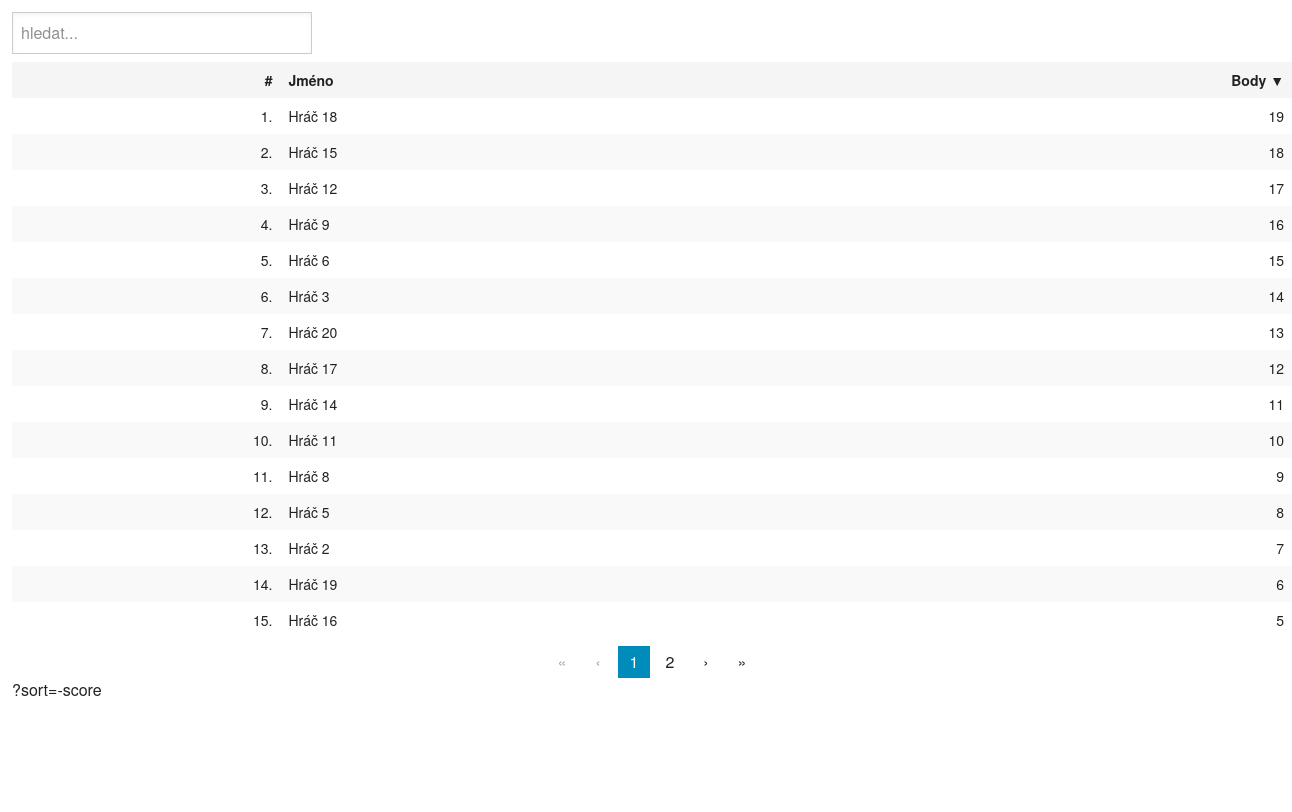
Test case: rank column numbers searched+sorted rows
Expected: the cell "1." is shown, [12,98,280,134]
What coordinates should you click on to do the following:
click the button "2"
I would click on:
 (670, 662)
Its box is [654,646,686,678].
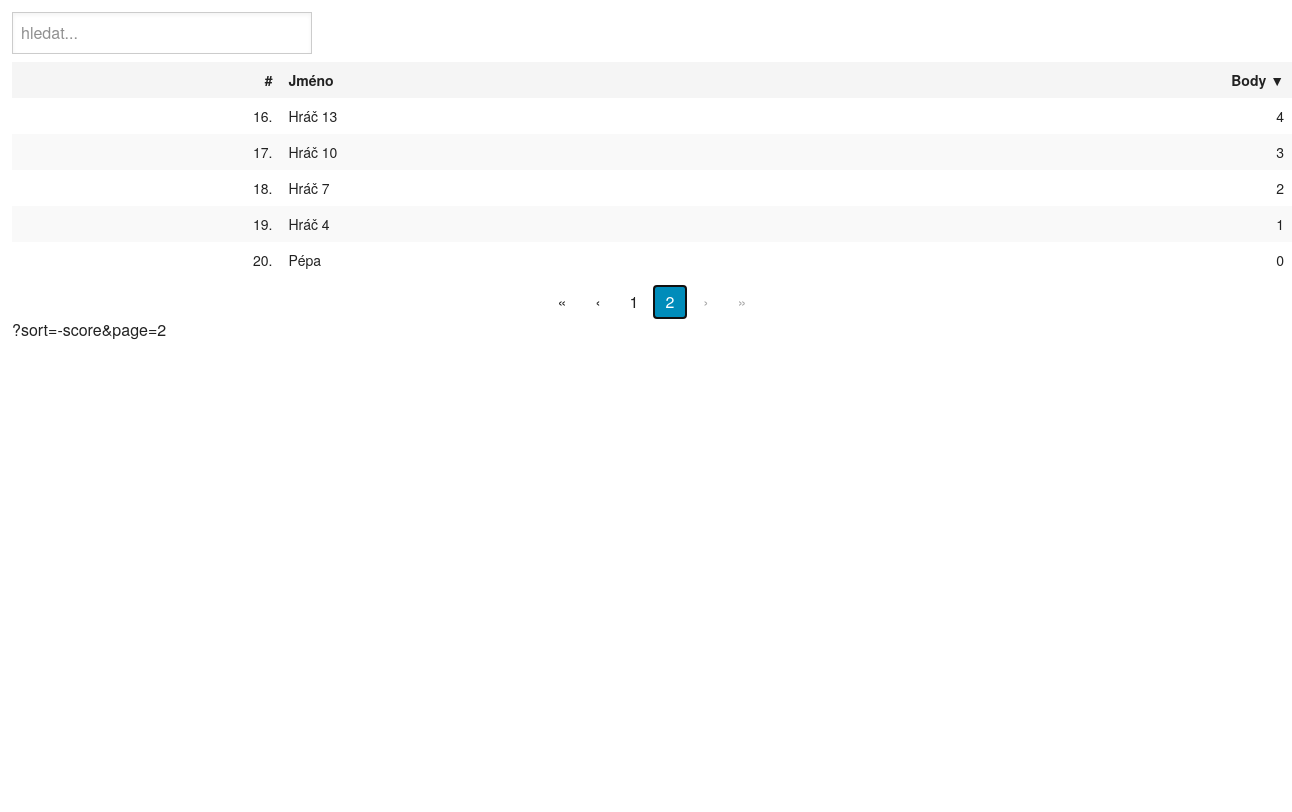
Expected: the cell "16." is shown, [12,98,280,134]
